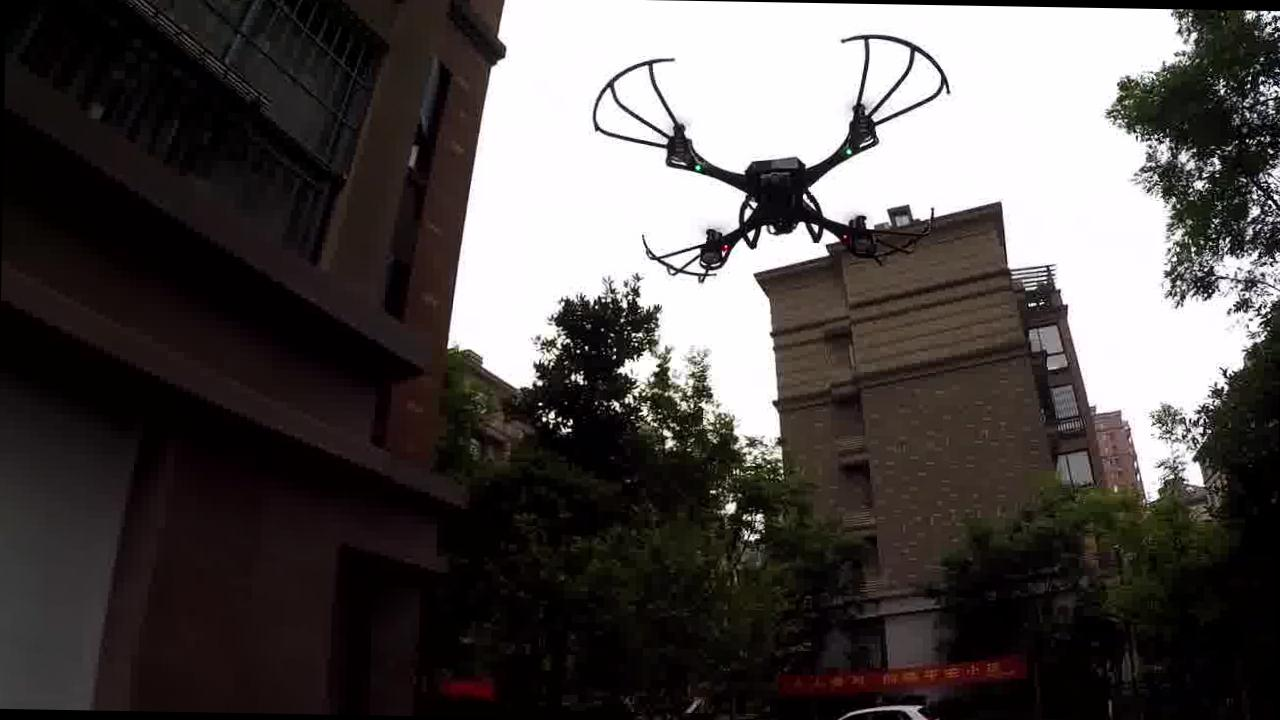drone: (586, 23, 957, 302)
